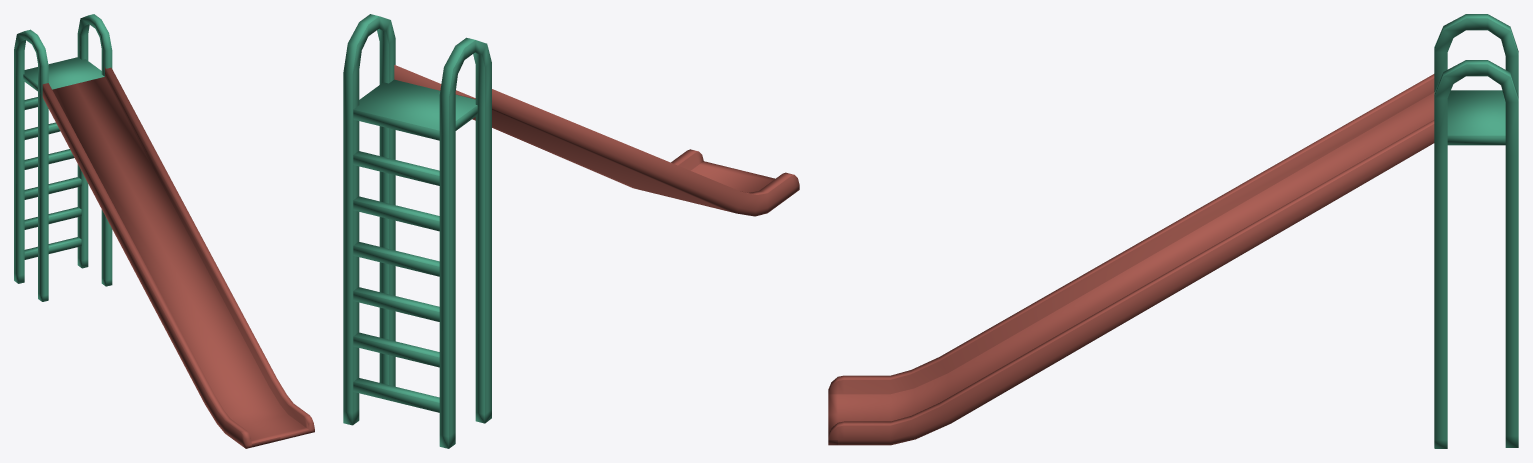
3 renders of one model, left to right at view 1: azimuth 30°, elevation 25°; view 2: azimuth 150°, elevation 25°; view 3: azimuth 270°, elevation 25°, orthographic. The views are drawn at different scales.
Visible parts, largest first — view 1: Slide; view 2: Slide; view 3: Slide.
Boxes of the visible parts, x1,y1,x2,y2 form: Slide: [14, 14, 314, 448]; Slide: [343, 14, 799, 448]; Slide: [828, 14, 1518, 448].
Size of the model in its own units: 0.0868 by 0.3072 by 0.5.
